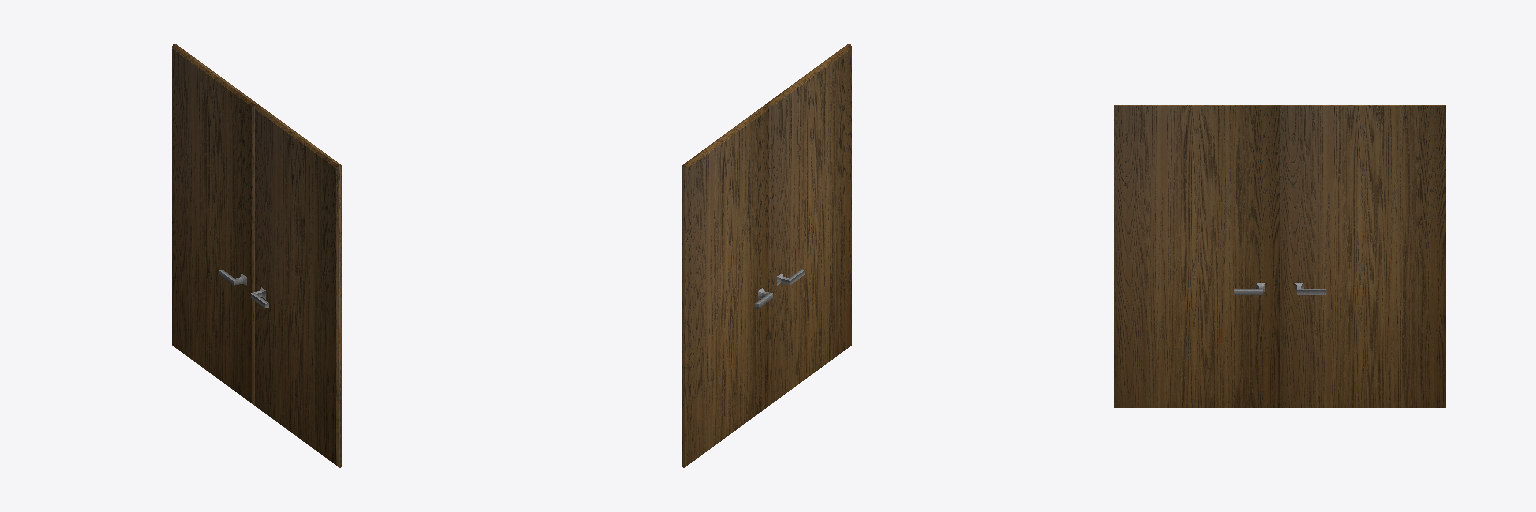
3 renders of one model, left to right at view 1: azimuth 30°, elevation 25°; view 2: azimuth 150°, elevation 25°; view 3: azimuth 270°, elevation 25°, orthographic.
Visible parts, largest first — view 1: Box298, Box297; view 2: Box297, Box298; view 3: Box297, Box298.
Part boxes in pixels (x1,y1,x2,y2): Box298: (255,104,341,467); Box297: (172,44,257,405); Box297: (682,104,768,467); Box298: (766,44,851,405); Box297: (1280,105,1445,407); Box298: (1114,105,1279,407).
Bounding box in the file's own units: 11.32 × 118 × 118.
Materials: 4 (2 with a texture image).